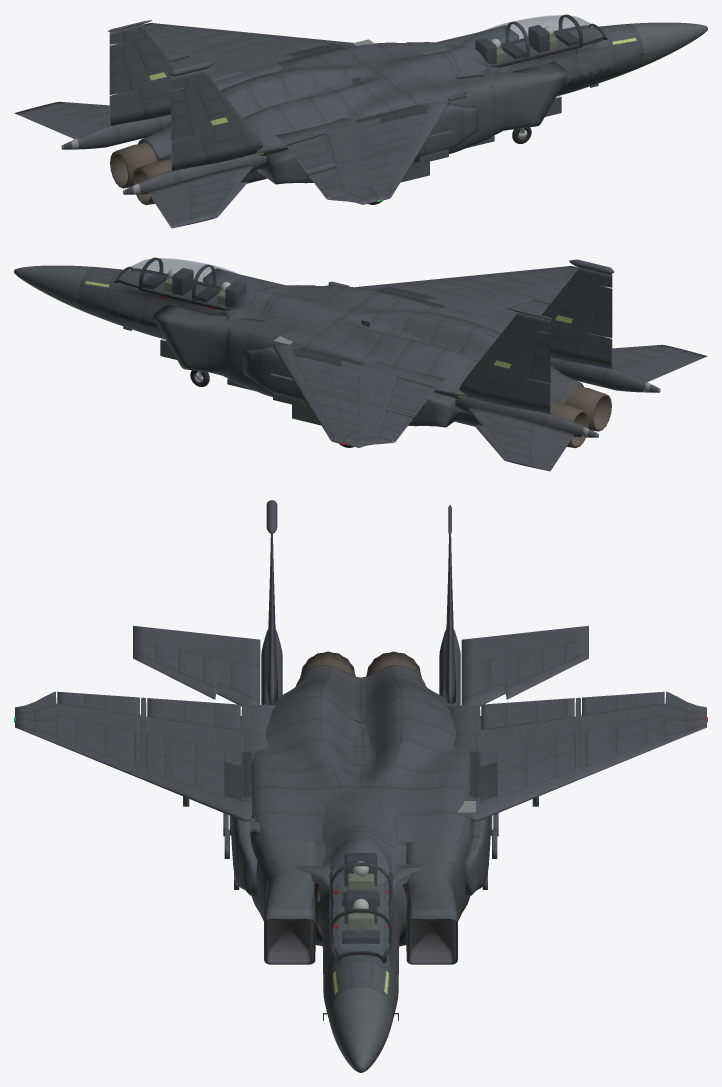
The picture shows the model from 3 angles, top to bottom: view 1: azimuth 30°, elevation 25°; view 2: azimuth 150°, elevation 25°; view 3: azimuth 270°, elevation 25°; orthographic projection. The views are drawn at different scales.
Visible parts, largest first — view 1: fuselage, wing_r, wing_l, fin_r, intake_r, fin_l, canopy, stab_r, cft_r, dorsal, stab_l, boom_l (+14 smaller); view 2: fuselage, wing_l, wing_r, fin_l, intake_l, fin_r, canopy, stab_l, cft_l, dorsal, stab_r, boom_r (+14 smaller); view 3: fuselage, wing_r, wing_l, stab_l, stab_r, dorsal, intake_l, intake_r, canopy, windscreen, flap_l, flap_r (+6 smaller).
Boxes of the visible parts, left/top/right/bottom form: fuselage: left=138, top=22, right=707, bottom=183; wing_r: left=275, top=101, right=448, bottom=204; wing_l: left=116, top=23, right=355, bottom=90; fin_r: left=171, top=69, right=262, bottom=170; intake_r: left=456, top=61, right=568, bottom=145; fin_l: left=109, top=24, right=180, bottom=125; canopy: left=459, top=15, right=579, bottom=65; stab_r: left=147, top=164, right=254, bottom=228; cft_r: left=257, top=103, right=478, bottom=184; dorsal: left=260, top=46, right=494, bottom=109; stab_l: left=14, top=101, right=109, bottom=138; boom_l: left=63, top=114, right=171, bottom=149; fuselage: left=14, top=265, right=583, bottom=426; wing_l: left=273, top=344, right=446, bottom=447; wing_r: left=355, top=266, right=605, bottom=333; fin_l: left=459, top=312, right=550, bottom=413; intake_l: left=153, top=304, right=265, bottom=388; fin_r: left=541, top=267, right=612, bottom=368; canopy: left=142, top=258, right=262, bottom=308; stab_l: left=467, top=407, right=574, bottom=471; cft_l: left=243, top=346, right=464, bottom=427; dorsal: left=227, top=289, right=461, bottom=352; stab_r: left=612, top=344, right=707, bottom=381; boom_r: left=550, top=357, right=658, bottom=392; fuselage: left=250, top=665, right=471, bottom=1072; wing_r: left=15, top=691, right=275, bottom=821; wing_l: left=446, top=691, right=706, bottom=821; stab_l: left=461, top=625, right=588, bottom=706; stab_r: left=133, top=625, right=260, bottom=706; dorsal: left=318, top=717, right=403, bottom=902; intake_l: left=406, top=840, right=465, bottom=964; intake_r: left=256, top=840, right=315, bottom=964; canopy: left=329, top=843, right=392, bottom=927; windscreen: left=331, top=912, right=390, bottom=962; flap_l: left=481, top=698, right=574, bottom=729; flap_r: left=147, top=698, right=240, bottom=729.
Bounding box in the file's own units: 19.35 × 5.69 × 13.09.
Materials: 34 (18 with a texture image).
